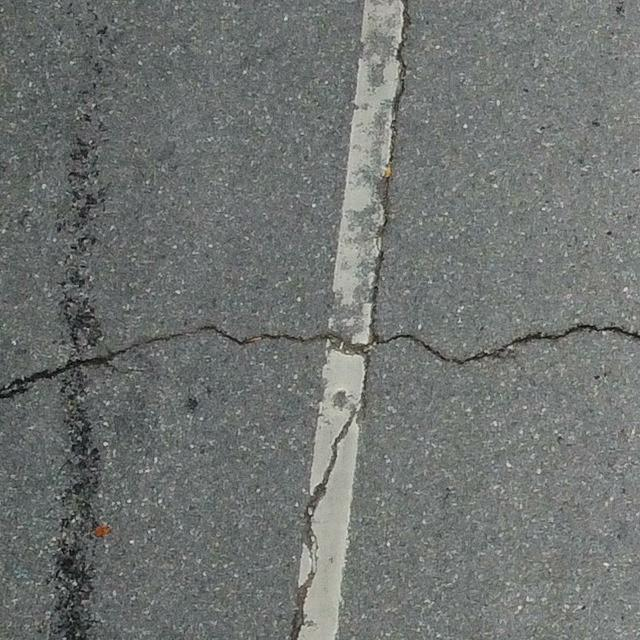LongitudinalCrack: (289, 1, 411, 637)
TransverseCrack: (1, 322, 640, 399)
